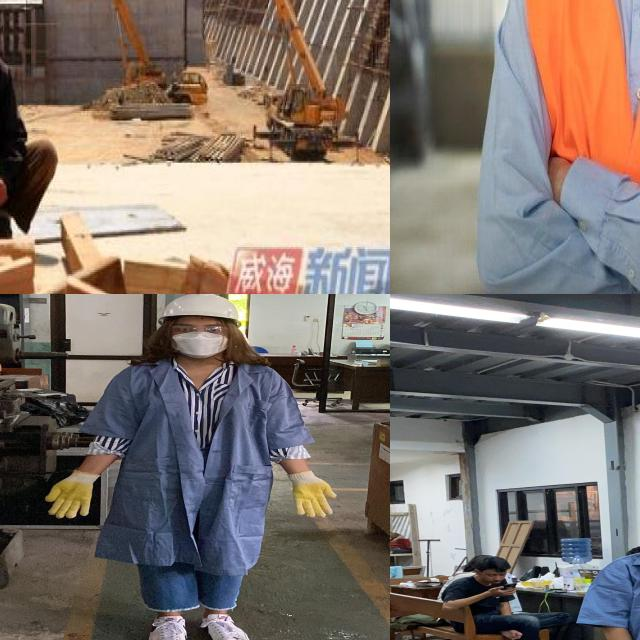face_mask: (166, 322, 232, 358)
face_nomask: (484, 571, 508, 584)
glasses: (164, 323, 236, 339)
hand_glove: (40, 469, 105, 521), (288, 472, 340, 519)
hand_noglove: (488, 585, 519, 598), (0, 174, 11, 209)
head_helmet: (156, 294, 241, 321)
head_nohelmet: (474, 555, 514, 574)
person: (39, 294, 357, 640), (0, 0, 65, 258), (437, 553, 577, 640)
shoes: (193, 606, 255, 640), (143, 610, 195, 640)
